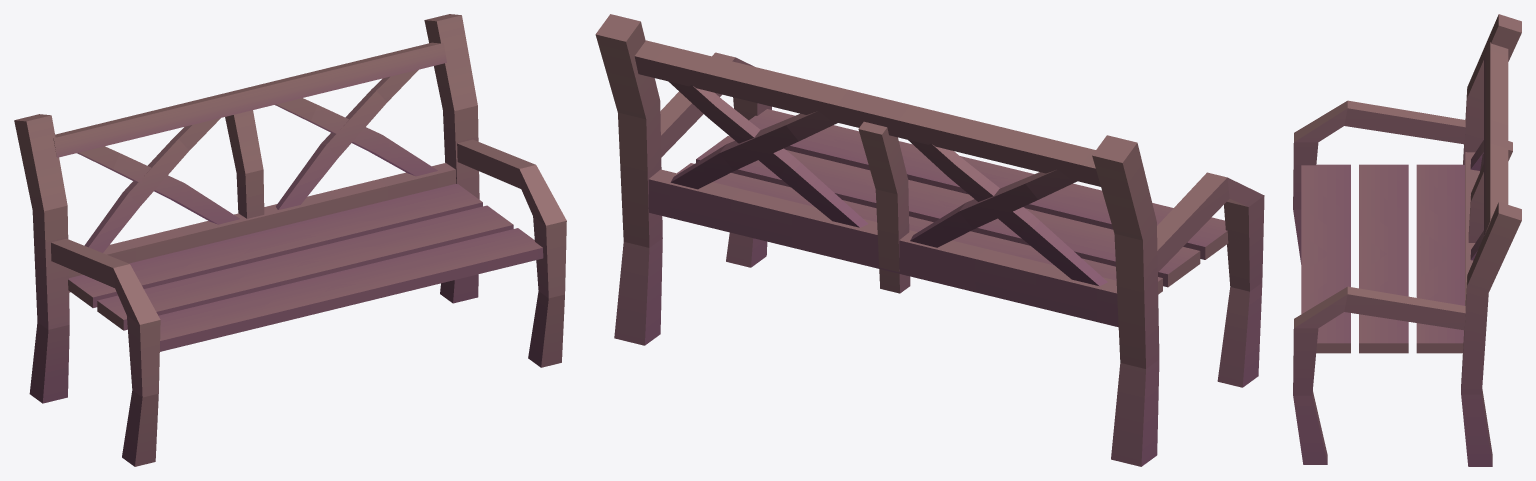
The model's file is bench001.obj.
3 renders of one model, left to right at view 1: azimuth 30°, elevation 25°; view 2: azimuth 150°, elevation 25°; view 3: azimuth 270°, elevation 25°, orthographic. The views are drawn at different scales.
Visible parts, largest first — view 1: bench.001; view 2: bench.001; view 3: bench.001.
Boxes of the visible parts, box(x1,y1,x2,y2) form: bench.001: box(14, 14, 566, 466); bench.001: box(595, 14, 1264, 466); bench.001: box(1293, 14, 1521, 466).
Bounding box in the file's own units: 5.53 × 3.28 × 2.68.
Materials: 1 (1 with a texture image).
